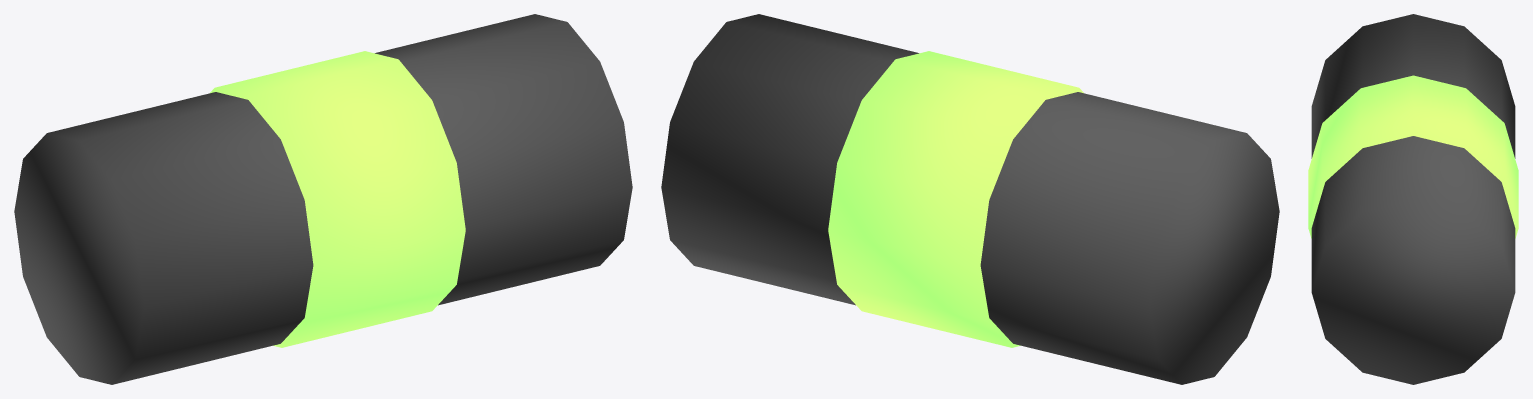
The model's file is battery.glb.
The picture shows the model from 3 angles, left to right: view 1: azimuth 30°, elevation 25°; view 2: azimuth 150°, elevation 25°; view 3: azimuth 270°, elevation 25°; orthographic projection. The views are drawn at different scales.
Parts seen in each view (by area): view 1: cyl, cyl.001; view 2: cyl, cyl.001; view 3: cyl, cyl.001.
Part boxes in pixels (x1,y1,x2,y2): cyl: (14, 14, 632, 384); cyl.001: (210, 51, 465, 347); cyl: (661, 14, 1279, 384); cyl.001: (828, 51, 1083, 347); cyl: (1311, 14, 1515, 384); cyl.001: (1308, 75, 1518, 238).
Size of the model in its own units: 0.13 by 0.062 by 0.062.
